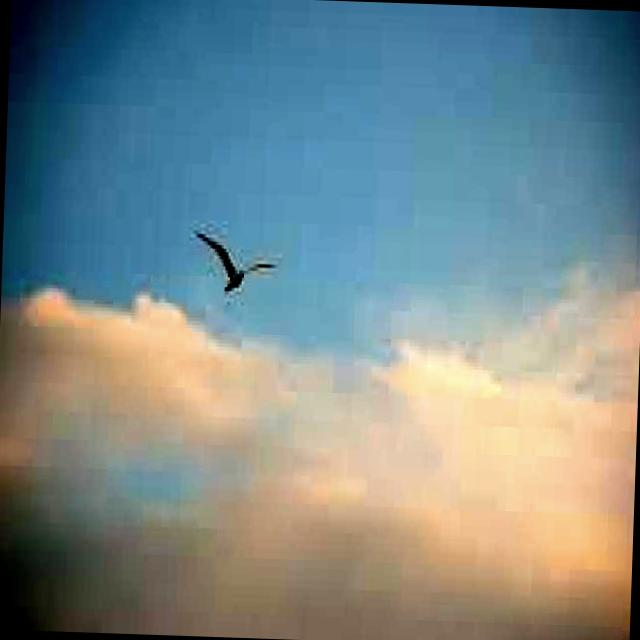bird: (190, 222, 278, 294)
